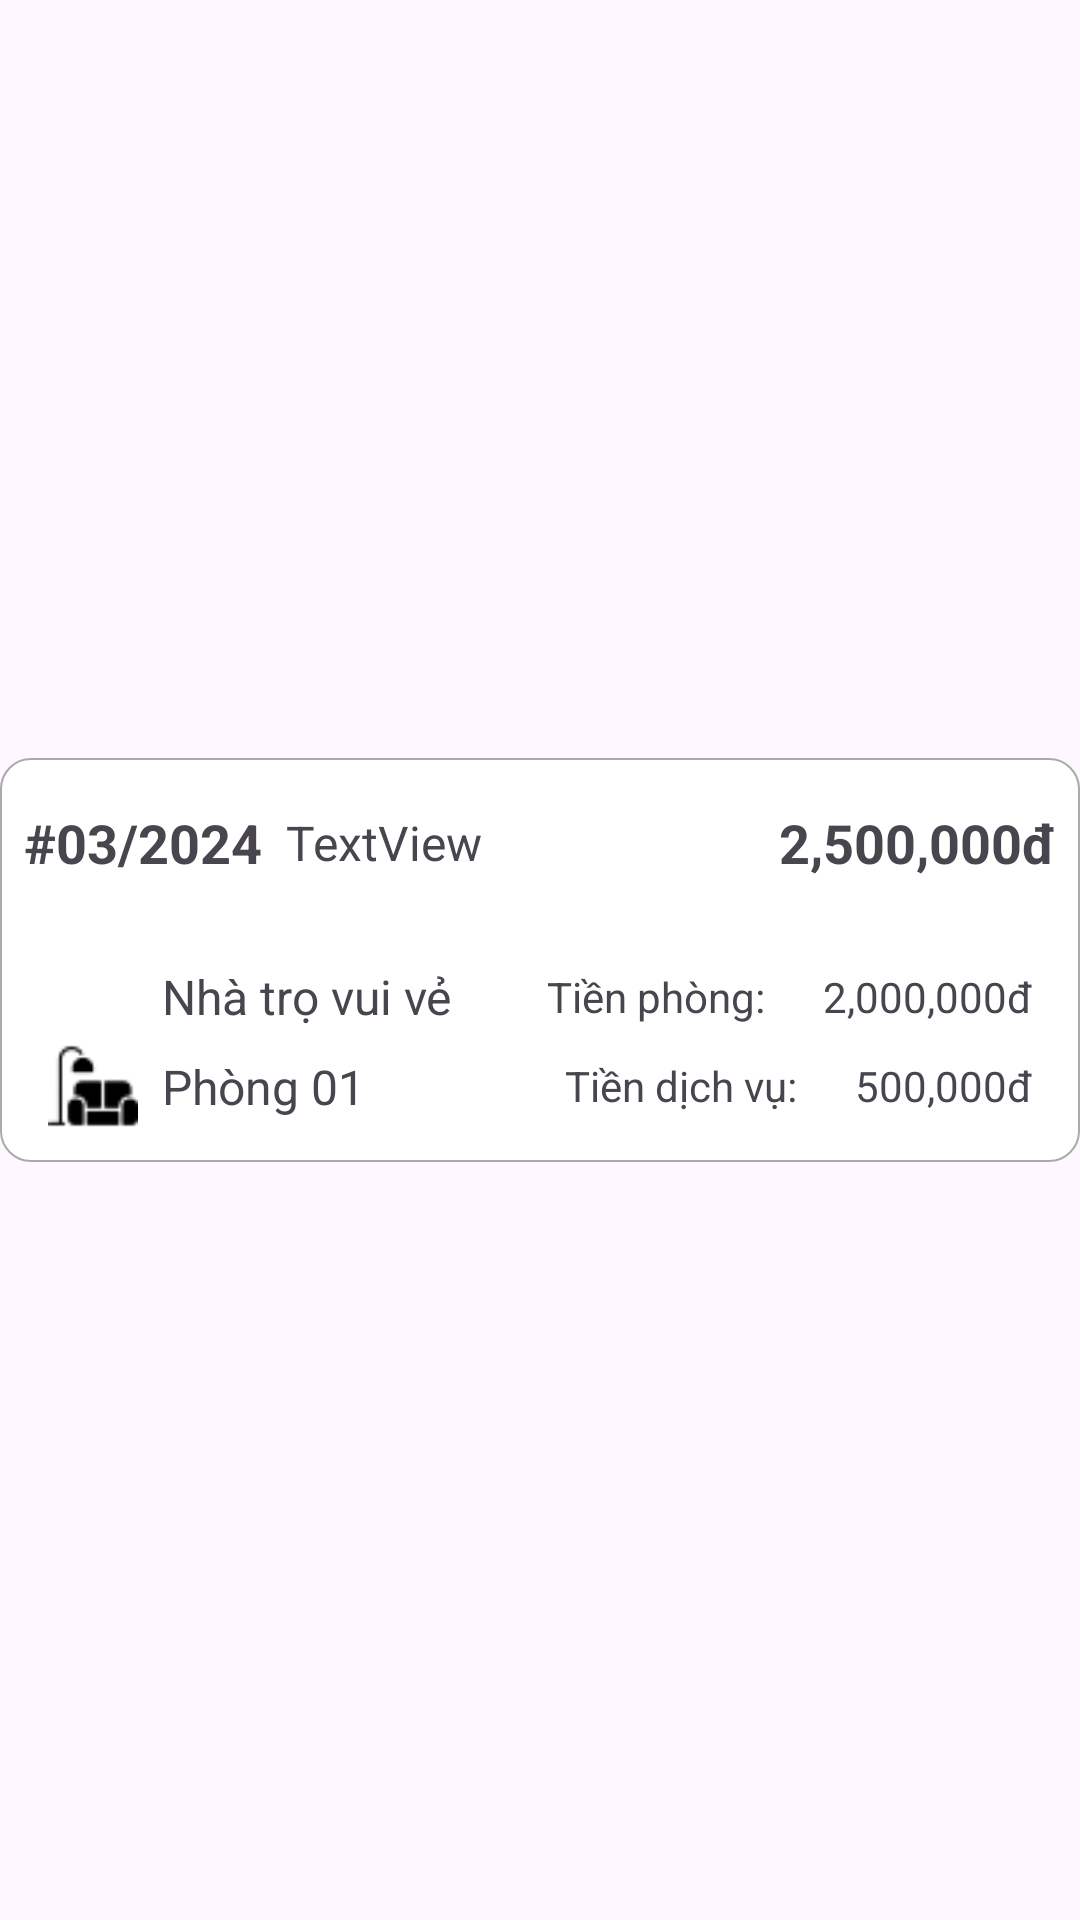

Point at icon controls on the screen. Image size 1080px x 1920px, points as (x,y).
livingroom: (93,1086)
